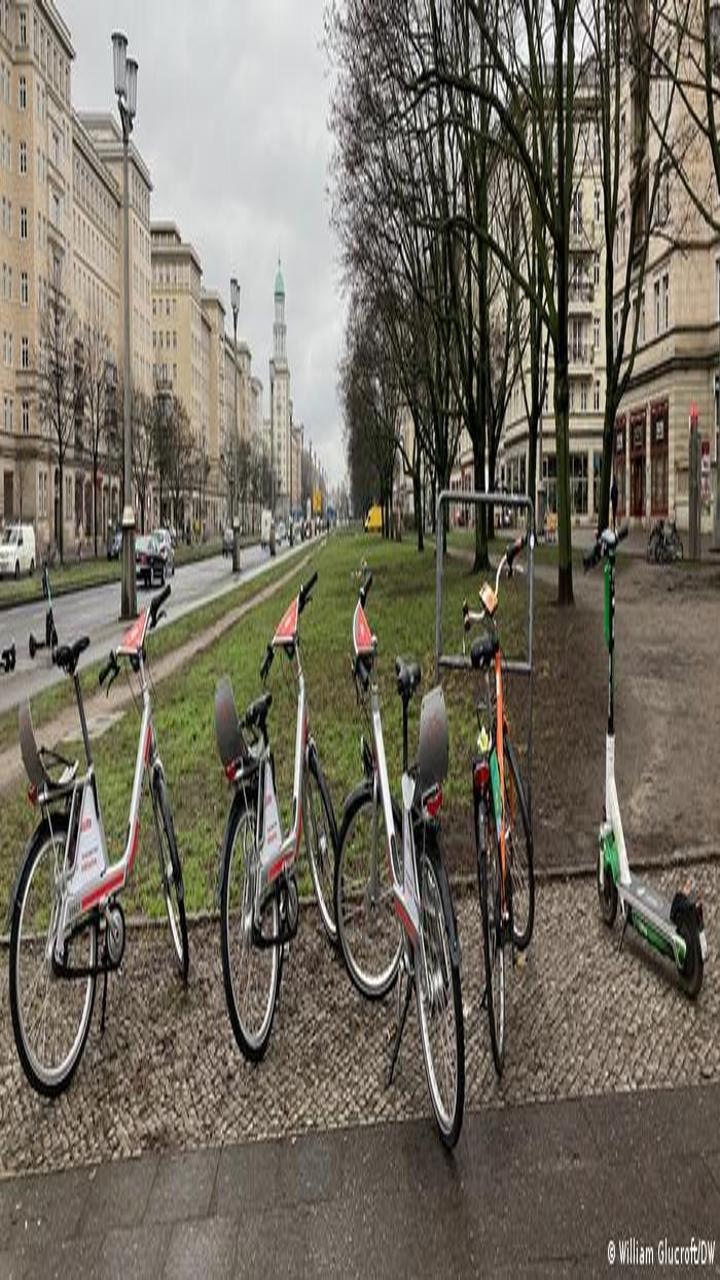bicycle: (364, 529, 552, 1128), (11, 627, 206, 1103), (181, 584, 376, 1060)
scooter: (532, 503, 720, 1102)
